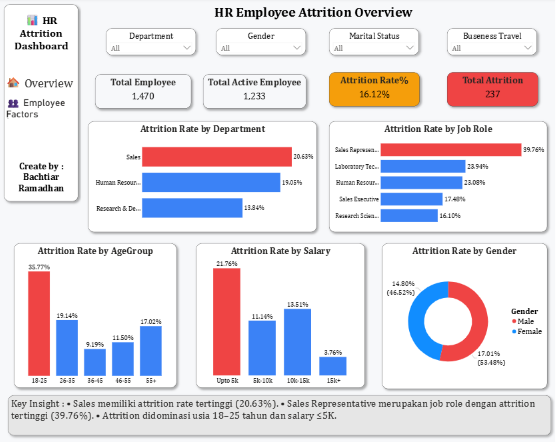

Layout of this report page (visuals, bound fields, positions):
{"tool":"powerbi","page":{"name":"Overview","canvas":[2800,2228],"ordinal":0},"visuals":[{"type":"textbox","title":"HR Employee Attrition Overview","box":[906.8,36.4,1335.9,76.9],"z":0},{"type":"textbox","box":[25.1,35.1,370.8,987.1],"z":1000},{"type":"textbox","title":"📊 HR Attrition Dashboard","box":[30.1,75.2,360.8,240.5],"z":2000},{"type":"slicer","title":"Department","fields":{"Values":["HR_Analytics_clean.Department"]},"box":[534.3,155,449.3,133.6],"z":3000},{"type":"slicer","title":"Gender","fields":{"Values":["HR_Analytics_clean.Gender"]},"box":[1084.9,155,449.3,133.6],"z":4000},{"type":"slicer","title":"Marital Status","fields":{"Values":["HR_Analytics_clean.MaritalStatus"]},"box":[1655.7,155,449.3,133.6],"z":5000},{"type":"slicer","title":"Buseness Travel","fields":{"Values":["HR_Analytics_clean.BusinessTravel"]},"box":[2242.6,155,449.3,133.6],"z":6000},{"type":"cardVisual","title":"Total Active Employee","fields":{"Data":["HR_Analytics_clean.Total Active Employee Text"]},"box":[1022.2,385.8,516.1,170.4],"z":7000},{"type":"cardVisual","title":"Attrition Rate%","fields":{"Data":["HR_Analytics_clean.Attrition Rate"]},"box":[1655.7,376.5,453.4,170],"z":8000},{"type":"cardVisual","title":"Total Attrition","fields":{"Data":["HR_Analytics_clean.Total Attrition"]},"box":[2246.7,376.5,455,170],"z":9000},{"type":"clusteredBarChart","title":"Attrition Rate by Department","fields":{"Category":["HR_Analytics_clean.Department"],"Y":["HR_Analytics_clean.Attrition Rate"]},"box":[447,623.4,1145.6,554.6],"z":10000},{"type":"clusteredBarChart","title":"Attrition Rate by Job Role","fields":{"Category":["HR_Analytics_clean.JobRole"],"Y":["HR_Analytics_clean.Attrition Rate"]},"box":[1655.7,623.4,1093,554.6],"z":11000},{"type":"donutChart","title":"Attrition Rate by Gender","fields":{"Category":["HR_Analytics_clean.Gender"],"Y":["HR_Analytics_clean.Attrition Rate"]},"box":[1920.6,1232.4,827.6,728.7],"z":12000},{"type":"clusteredColumnChart","title":"Attrition Rate by Salary","fields":{"Y":["HR_Analytics_clean.Attrition Rate"],"Category":["HR_Analytics_clean.SalarySlab"]},"box":[985,1232.4,845.6,724.2],"z":13000},{"type":"clusteredColumnChart","title":"Attrition Rate by AgeGroup","fields":{"Category":["HR_Analytics_clean.AgeGroup"],"Y":["HR_Analytics_clean.Attrition Rate"]},"box":[76.5,1232.4,814.1,724.2],"z":14000},{"type":"textbox","title":"Create by : Bachtiar Ramadhan","box":[30.1,816.7,360.8,195.4],"z":15000},{"type":"textbox","title":"Key Insight : • Sales memiliki attrition rate tertinggi (20.63%). • Sales Representative merupakan job role dengan attrition tertinggi (39.76%). • Attrition didominasi usia 18–25 tahun dan salary ≤5K.","box":[45.1,1994.2,2720.8,200.4],"z":16000},{"type":"actionButton","title":"🏠 Overview","box":[30.1,385.8,350.7,65.1],"z":17000},{"type":"actionButton","title":"👥 Employee Factors","box":[35.1,486,360.8,125.3],"z":18000},{"type":"cardVisual","title":"Total Employee","fields":{"Data":["HR_Analytics_clean.Total Employee"]},"box":[481,385.8,481,170.4],"z":19000}]}

Visuals, with their boxes in screenshot pixels (x1, y1, x2, y2), scaled from the page's 2800x2228 canvas onto the 556x442 screenshot:
"HR Employee Attrition Overview" textbox: [left=180, top=7, right=445, bottom=22]
textbox: [left=5, top=7, right=79, bottom=203]
"📊 HR Attrition Dashboard" textbox: [left=6, top=15, right=78, bottom=63]
"Department" slicer: [left=106, top=31, right=195, bottom=57]
"Gender" slicer: [left=215, top=31, right=305, bottom=57]
"Marital Status" slicer: [left=329, top=31, right=418, bottom=57]
"Buseness Travel" slicer: [left=445, top=31, right=535, bottom=57]
"Total Active Employee" cardVisual: [left=203, top=77, right=305, bottom=110]
"Attrition Rate%" cardVisual: [left=329, top=75, right=419, bottom=108]
"Total Attrition" cardVisual: [left=446, top=75, right=536, bottom=108]
"Attrition Rate by Department" clusteredBarChart: [left=89, top=124, right=316, bottom=234]
"Attrition Rate by Job Role" clusteredBarChart: [left=329, top=124, right=546, bottom=234]
"Attrition Rate by Gender" donutChart: [left=381, top=244, right=546, bottom=389]
"Attrition Rate by Salary" clusteredColumnChart: [left=196, top=244, right=364, bottom=388]
"Attrition Rate by AgeGroup" clusteredColumnChart: [left=15, top=244, right=177, bottom=388]
"Create by : Bachtiar Ramadhan" textbox: [left=6, top=162, right=78, bottom=201]
"Key Insight : • Sales memiliki attrition rate tertinggi (20.63%). • Sales Representative merupakan job role dengan attrition tertinggi (39.76%). • Attrition didominasi usia 18–25 tahun dan salary ≤5K." textbox: [left=9, top=396, right=549, bottom=435]
"🏠 Overview" actionButton: [left=6, top=77, right=76, bottom=89]
"👥 Employee Factors" actionButton: [left=7, top=96, right=79, bottom=121]
"Total Employee" cardVisual: [left=96, top=77, right=191, bottom=110]
